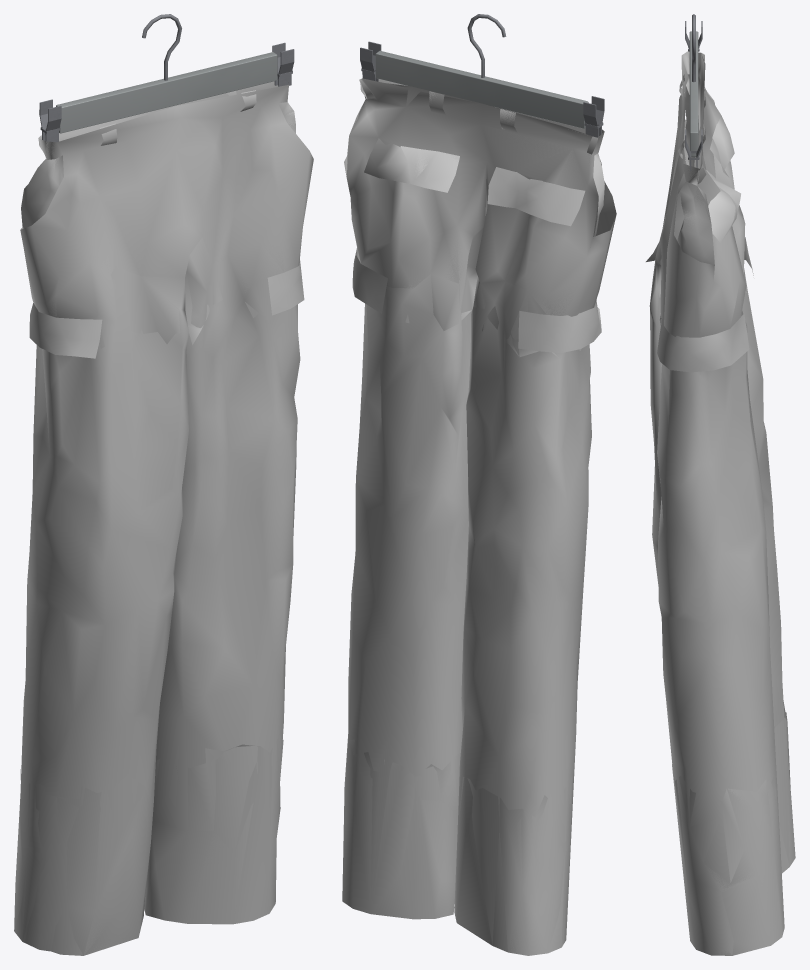
File: pantsCargo.FBX
3 renders of one model, left to right at view 1: azimuth 30°, elevation 25°; view 2: azimuth 150°, elevation 25°; view 3: azimuth 270°, elevation 25°, orthographic. The views are drawn at different scales.
Parts seen in each view (by area): view 1: pantsCargo_LOD0, _Hanger-2_LOD0; view 2: pantsCargo_LOD0, _Hanger-2_LOD0; view 3: pantsCargo_LOD0, _Hanger-2_LOD0.
Boxes of the visible parts, <box> form: pantsCargo_LOD0: <box>14,81,313,955</box>; _Hanger-2_LOD0: <box>39,14,294,142</box>; pantsCargo_LOD0: <box>342,78,616,955</box>; _Hanger-2_LOD0: <box>360,14,604,137</box>; pantsCargo_LOD0: <box>646,51,795,955</box>; _Hanger-2_LOD0: <box>685,14,702,170</box>.
Size of what is drawn, in the model's own units: 36.42 by 17.68 by 115.
